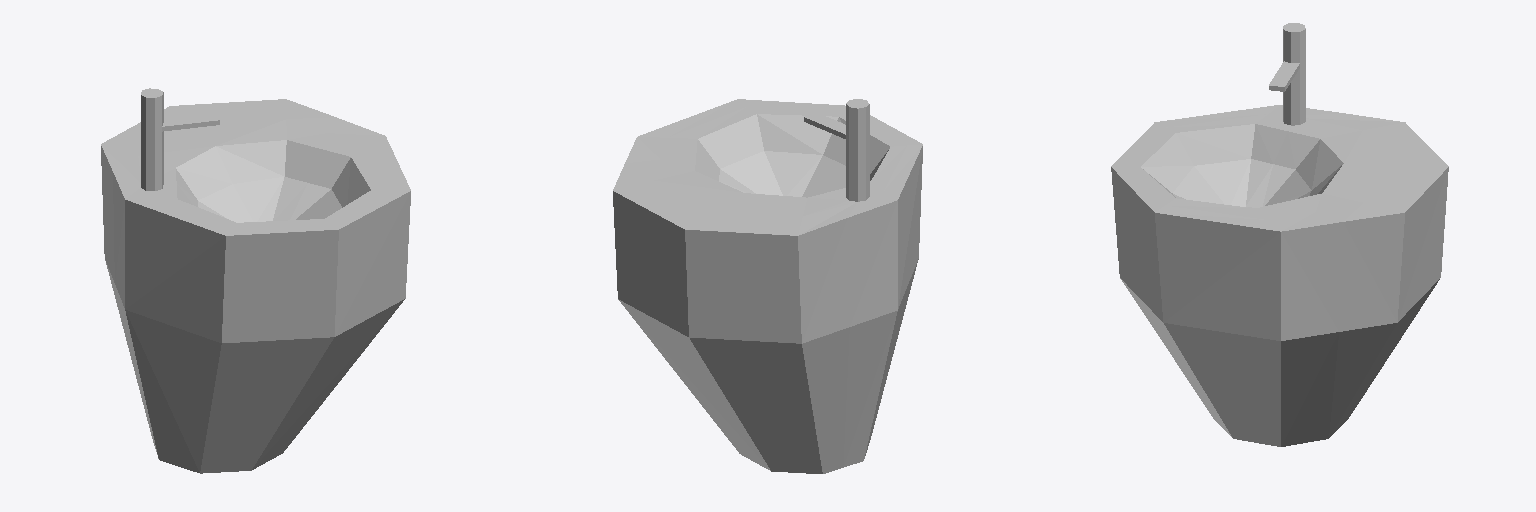
The model's file is 872514_LAVABO.obj.
The picture shows the model from 3 angles: view 1: azimuth 30°, elevation 25°; view 2: azimuth 150°, elevation 25°; view 3: azimuth 270°, elevation 25°; orthographic projection.
Parts seen in each view (by area): view 1: lavandino; view 2: lavandino; view 3: lavandino.
Boxes of the visible parts, <box> form: lavandino: <box>101,88,410,473</box>; lavandino: <box>613,99,922,473</box>; lavandino: <box>1111,23,1448,446</box>.
Bounding box in the file's own units: 50.96 × 67.69 × 57.18.